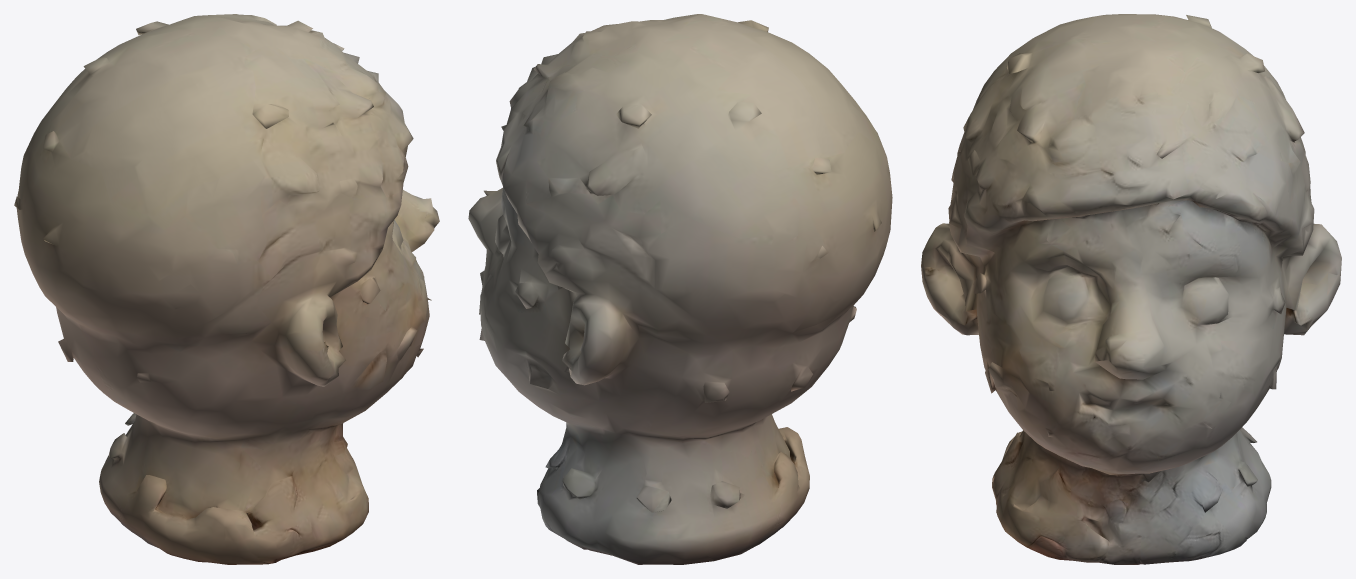
The model's file is head.glb.
The picture shows the model from 3 angles, left to right: view 1: azimuth 30°, elevation 25°; view 2: azimuth 150°, elevation 25°; view 3: azimuth 270°, elevation 25°; orthographic projection.
Parts seen in each view (by area): view 1: tripo_node_476377d9-7203-4b73-bdf1-757ee725b12e; view 2: tripo_node_476377d9-7203-4b73-bdf1-757ee725b12e; view 3: tripo_node_476377d9-7203-4b73-bdf1-757ee725b12e.
Part boxes in pixels (x1,y1,x2,y2): tripo_node_476377d9-7203-4b73-bdf1-757ee725b12e: (14,14,439,564); tripo_node_476377d9-7203-4b73-bdf1-757ee725b12e: (468,14,892,564); tripo_node_476377d9-7203-4b73-bdf1-757ee725b12e: (921,14,1341,564).
Size of the model in its own units: 0.8645 by 1 by 0.7977.
Materials: 1 (1 with a texture image).
